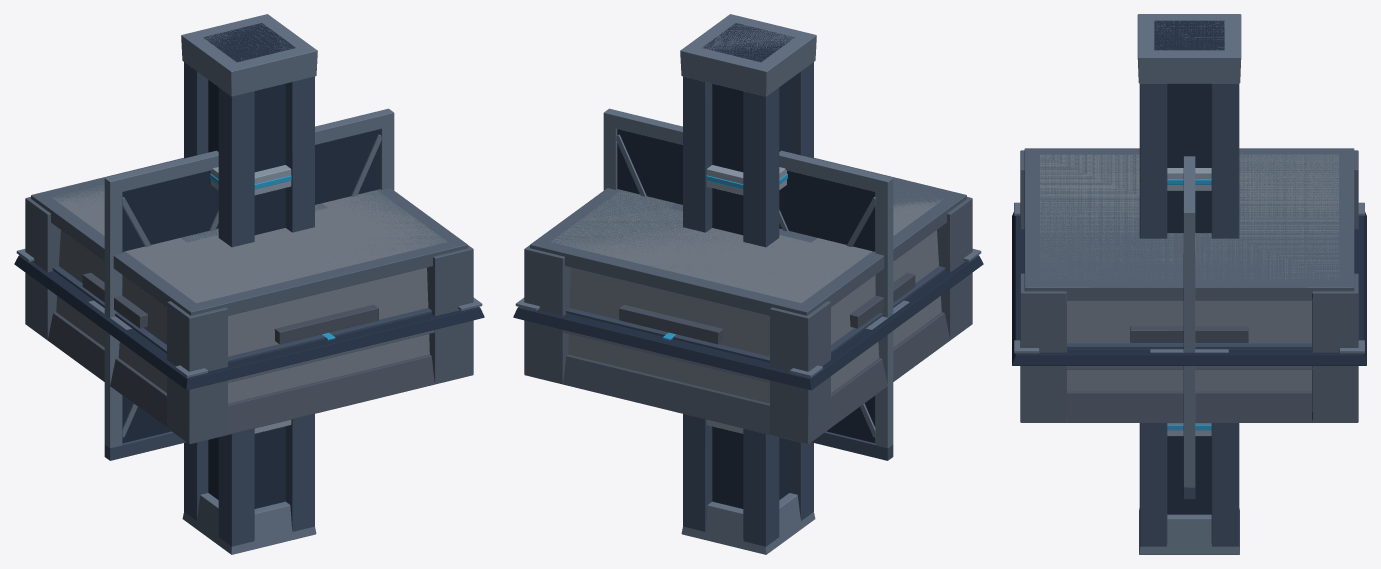
Rendered from structures.glb.
3 views of the same model, side by side, from view 1: azimuth 30°, elevation 25°; view 2: azimuth 150°, elevation 25°; view 3: azimuth 270°, elevation 25° (orthographic). The views are drawn at different scales.
Visible parts, largest first — view 1: POI_Fort_Deck, SkyPod_Pillar, Map_IronBarrier, SkyPod_Deck, POI_Hub_Plinth; view 2: POI_Fort_Deck, SkyPod_Pillar, Map_IronBarrier, SkyPod_Deck, POI_Hub_Plinth; view 3: POI_Fort_Deck, SkyPod_Pillar, SkyPod_Deck, Map_IronBarrier, POI_Hub_Plinth.
Part boxes in pixels (x1=…): POI_Fort_Deck: x1=25, y1=158, x2=473, y2=444; SkyPod_Pillar: x1=181, y1=14, x2=317, y2=554; Map_IronBarrier: x1=104, y1=108, x2=394, y2=460; SkyPod_Deck: x1=14, y1=249, x2=484, y2=390; POI_Hub_Plinth: x1=228, y1=330, x2=434, y2=382; POI_Fort_Deck: x1=524, y1=158, x2=972, y2=444; SkyPod_Pillar: x1=680, y1=14, x2=816, y2=554; Map_IronBarrier: x1=603, y1=108, x2=893, y2=460; SkyPod_Deck: x1=513, y1=249, x2=983, y2=390; POI_Hub_Plinth: x1=563, y1=330, x2=769, y2=382; POI_Fort_Deck: x1=1020, y1=148, x2=1358, y2=422; SkyPod_Pillar: x1=1137, y1=14, x2=1241, y2=554; SkyPod_Deck: x1=1012, y1=202, x2=1366, y2=365; Map_IronBarrier: x1=1183, y1=156, x2=1195, y2=499; POI_Hub_Plinth: x1=1066, y1=366, x2=1312, y2=369.
Bounding box in the file's own units: 8.39 × 13 × 8.39.
